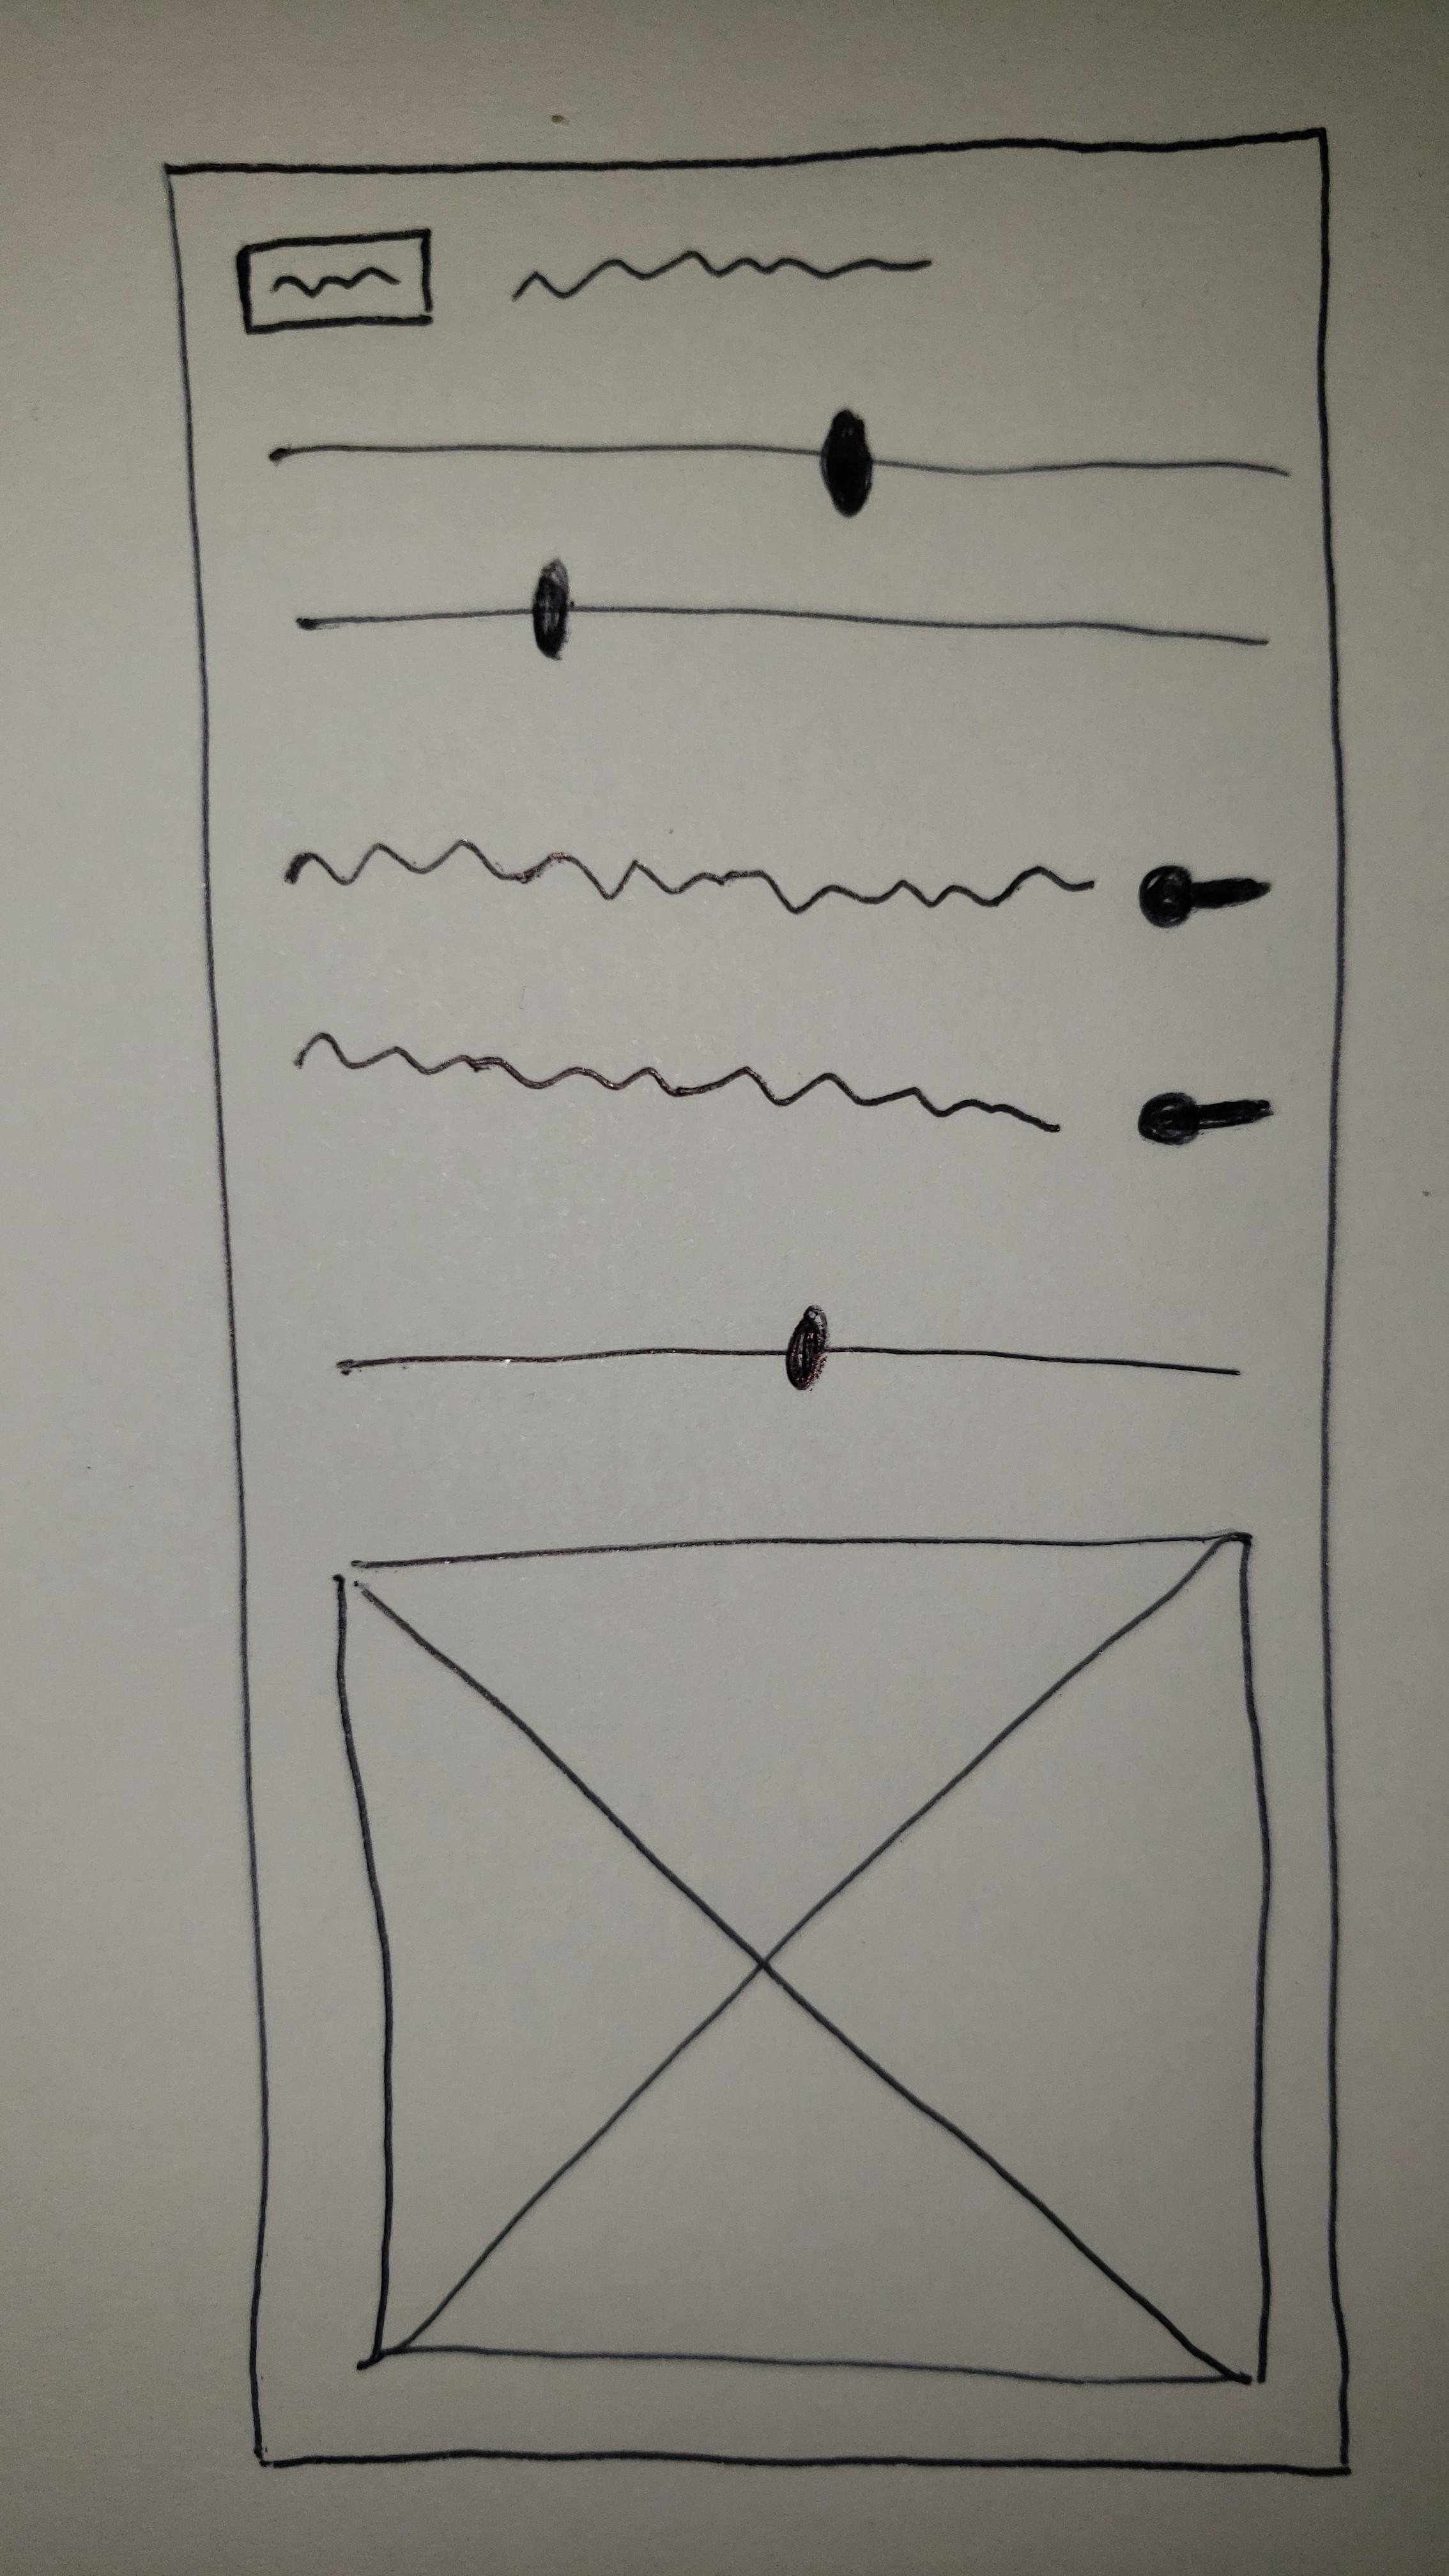Button: (235, 230, 433, 336)
Image: (331, 1530, 1276, 2388)
Label: (511, 244, 932, 306)
Screen: (159, 122, 1355, 2475)
Slider: (267, 405, 1290, 520), (292, 556, 1270, 663), (336, 1304, 1242, 1392)
Switch: (290, 1031, 1274, 1146), (287, 837, 1276, 932)
